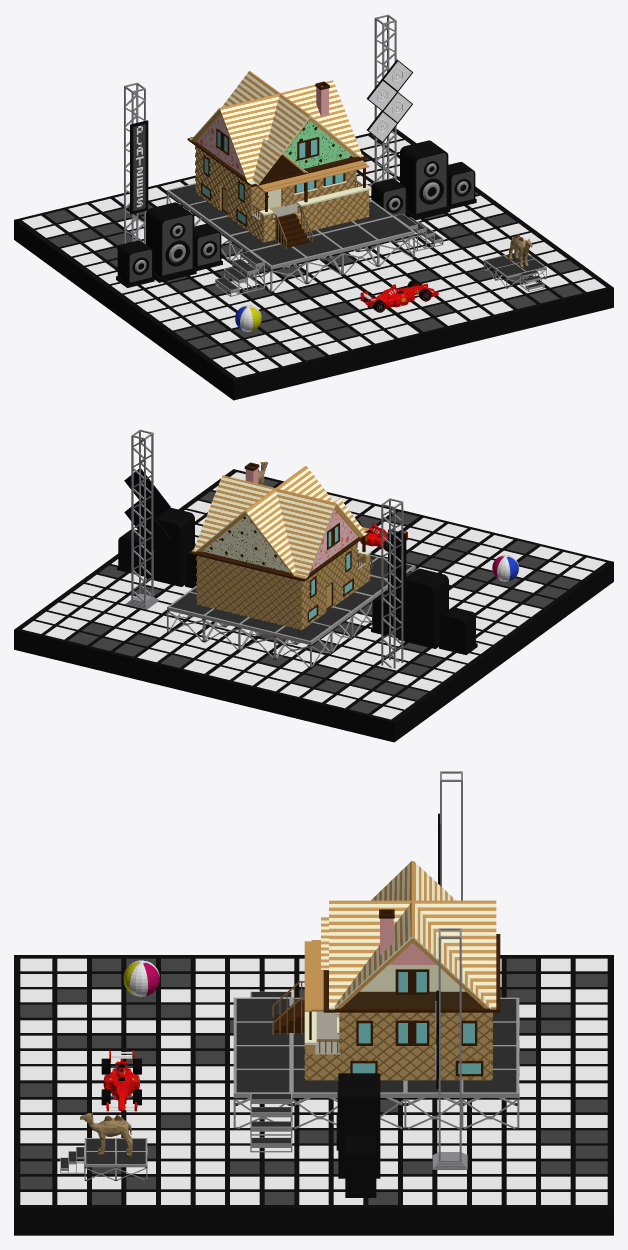
3 views of the same model, one above another, from view 1: azimuth 30°, elevation 25°; view 2: azimuth 150°, elevation 25°; view 3: azimuth 270°, elevation 25° (orthographic). The views are drawn at different scales.
Parts seen in each view (by area): view 1: Cube.008, Cube.1102, VEHICLES_FORMULA_1, OBJRANDOM_BEACHBALL; view 2: Cube.008, Cube.1102, OBJRANDOM_BEACHBALL, VEHICLES_FORMULA_1; view 3: Cube.008, Cube.1102, VEHICLES_FORMULA_1, OBJRANDOM_BEACHBALL, ANIMAL_CAMELLO.
Part boxes in pixels (bbox=[...]): Cube.008: bbox=[14, 14, 613, 400]; Cube.1102: bbox=[187, 71, 371, 248]; VEHICLES_FORMULA_1: bbox=[360, 280, 438, 312]; OBJRANDOM_BEACHBALL: bbox=[235, 305, 261, 331]; Cube.008: bbox=[14, 429, 613, 742]; Cube.1102: bbox=[189, 462, 372, 629]; OBJRANDOM_BEACHBALL: bbox=[492, 554, 518, 581]; VEHICLES_FORMULA_1: bbox=[356, 519, 407, 551]; Cube.008: bbox=[14, 771, 613, 1235]; Cube.1102: bbox=[272, 861, 500, 1080]; VEHICLES_FORMULA_1: bbox=[101, 1050, 141, 1111]; OBJRANDOM_BEACHBALL: bbox=[123, 960, 159, 996]; ANIMAL_CAMELLO: bbox=[80, 1112, 132, 1156].
Size of the model in its own units: 4000 by 1945 by 4000.
38 materials, 2 textured.
